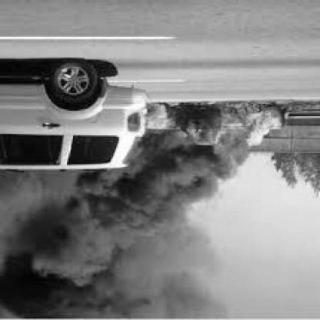Fire: (134, 99, 286, 167)
Smoke: (0, 169, 243, 319)
